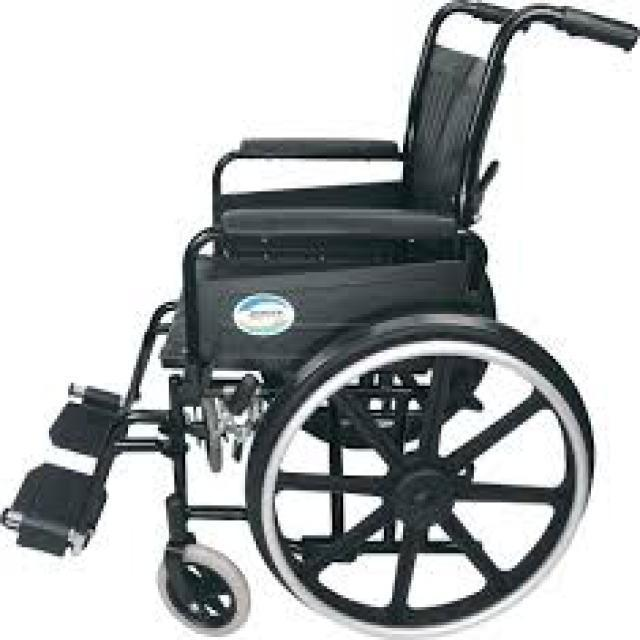wheelchairs: (14, 1, 592, 619)
